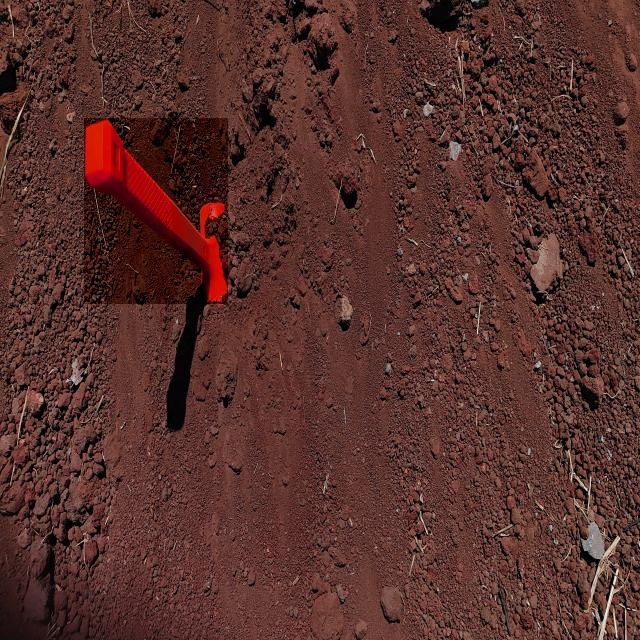Orange_hammer: (84, 118, 228, 304)
